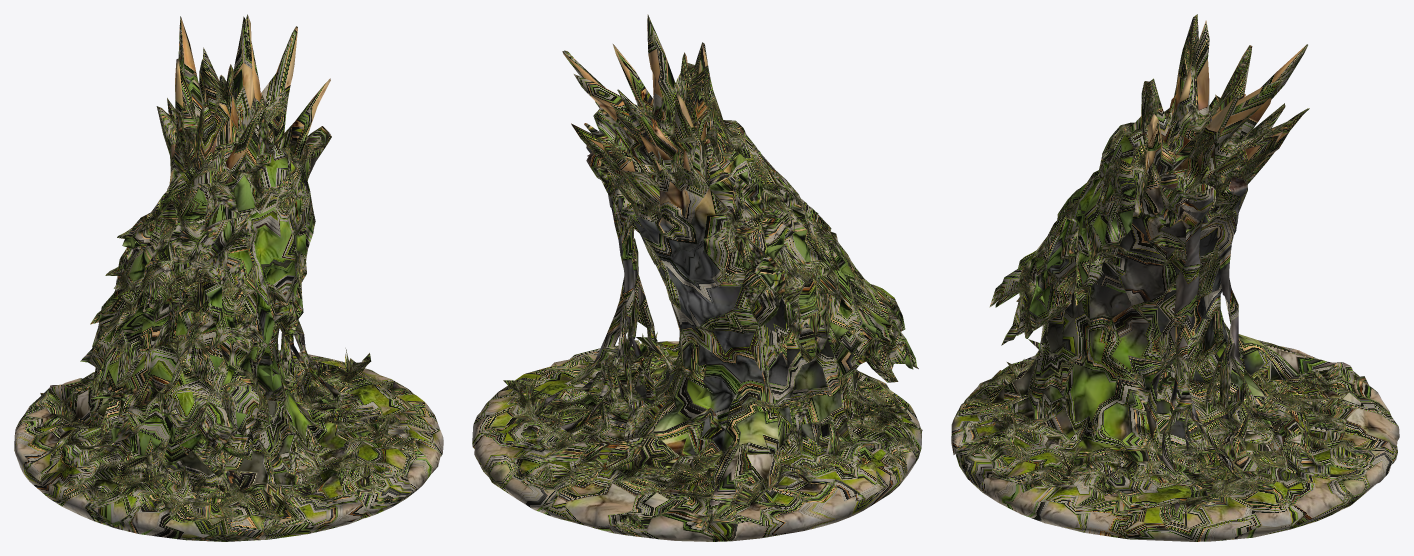
File: tree.glb
3 renders of one model, left to right at view 1: azimuth 30°, elevation 25°; view 2: azimuth 150°, elevation 25°; view 3: azimuth 270°, elevation 25°, orthographic. The views are drawn at different scales.
Bounding box in the file's own units: 1.75 × 1.9 × 1.72.
Materials: 1 (1 with a texture image).
